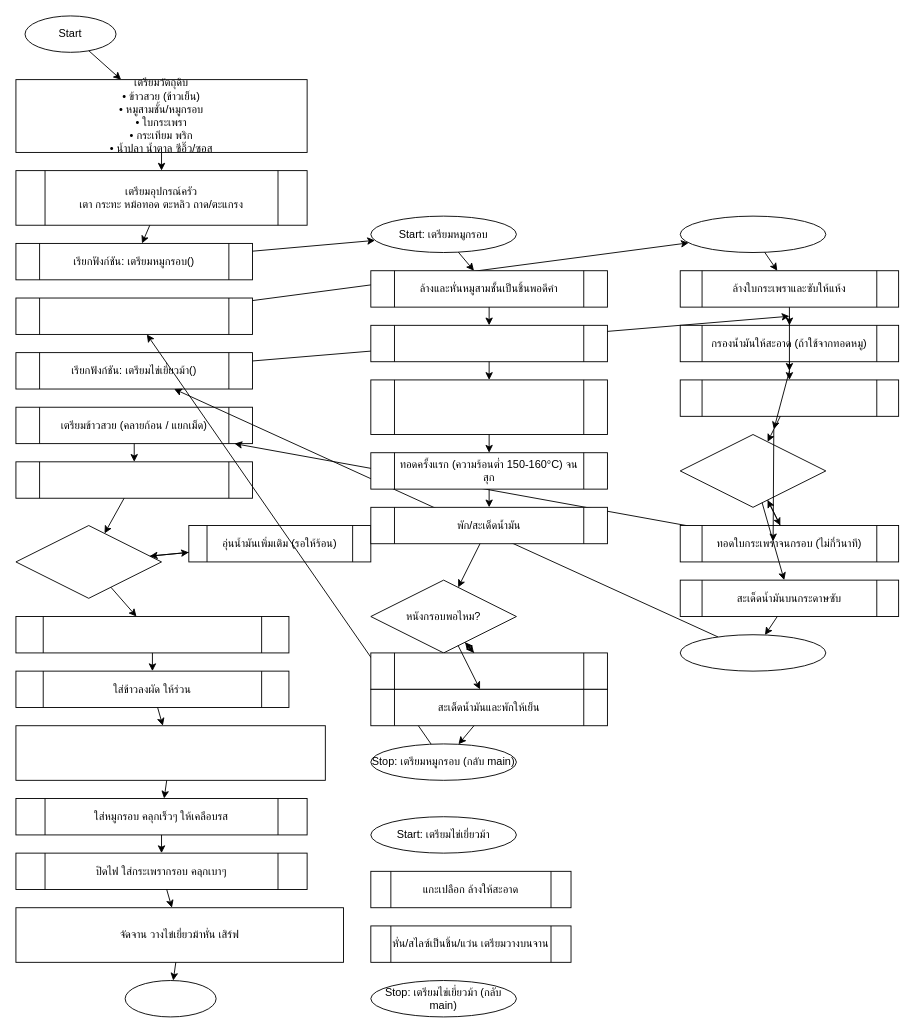
This 915x1033 diagram has some shape labels left out. The centre of each missing label's shape, as x and y in pixels:
Start: เตรียมกระเพรากรอบ: the point at 752,234
Stop: the point at 170,998
Stop: เตรียมกระเพรากรอบ (กลับ main): the point at 752,652
ตั้งกระทะและใส่น้ำมัน: the point at 134,479
ตั้งน้ำมันสำหรับทอดใบ (ไฟกลาง-สูง): the point at 789,397
ทอดครั้งสอง (ความร้อนสูง 190-200°C) จนพองกรอบ: the point at 488,670
น้ำมันร้อนพอ?: the point at 88,561
ปรุงรส: น้ำปลา / ซีอิ๊ว / น้ำตาล ปรับตามชอบ: the point at 170,752
ผัดกระเทียมและพริกจนหอม: the point at 152,634
ลวก/ต้มให้สุก (น้ำเดือด+เกลือ/น้ำส้มเล็กน้อย): the point at 488,343
สะเด็ดน้ำ ซับให้แห้ง พักให้แห้ง (ตากหรือตู้เย็น): the point at 488,407
เรียกฟังก์ชัน: เตรียมกระเพรากรอบ(): the point at 134,315
ใบกรอบพอไหม?: the point at 752,470
